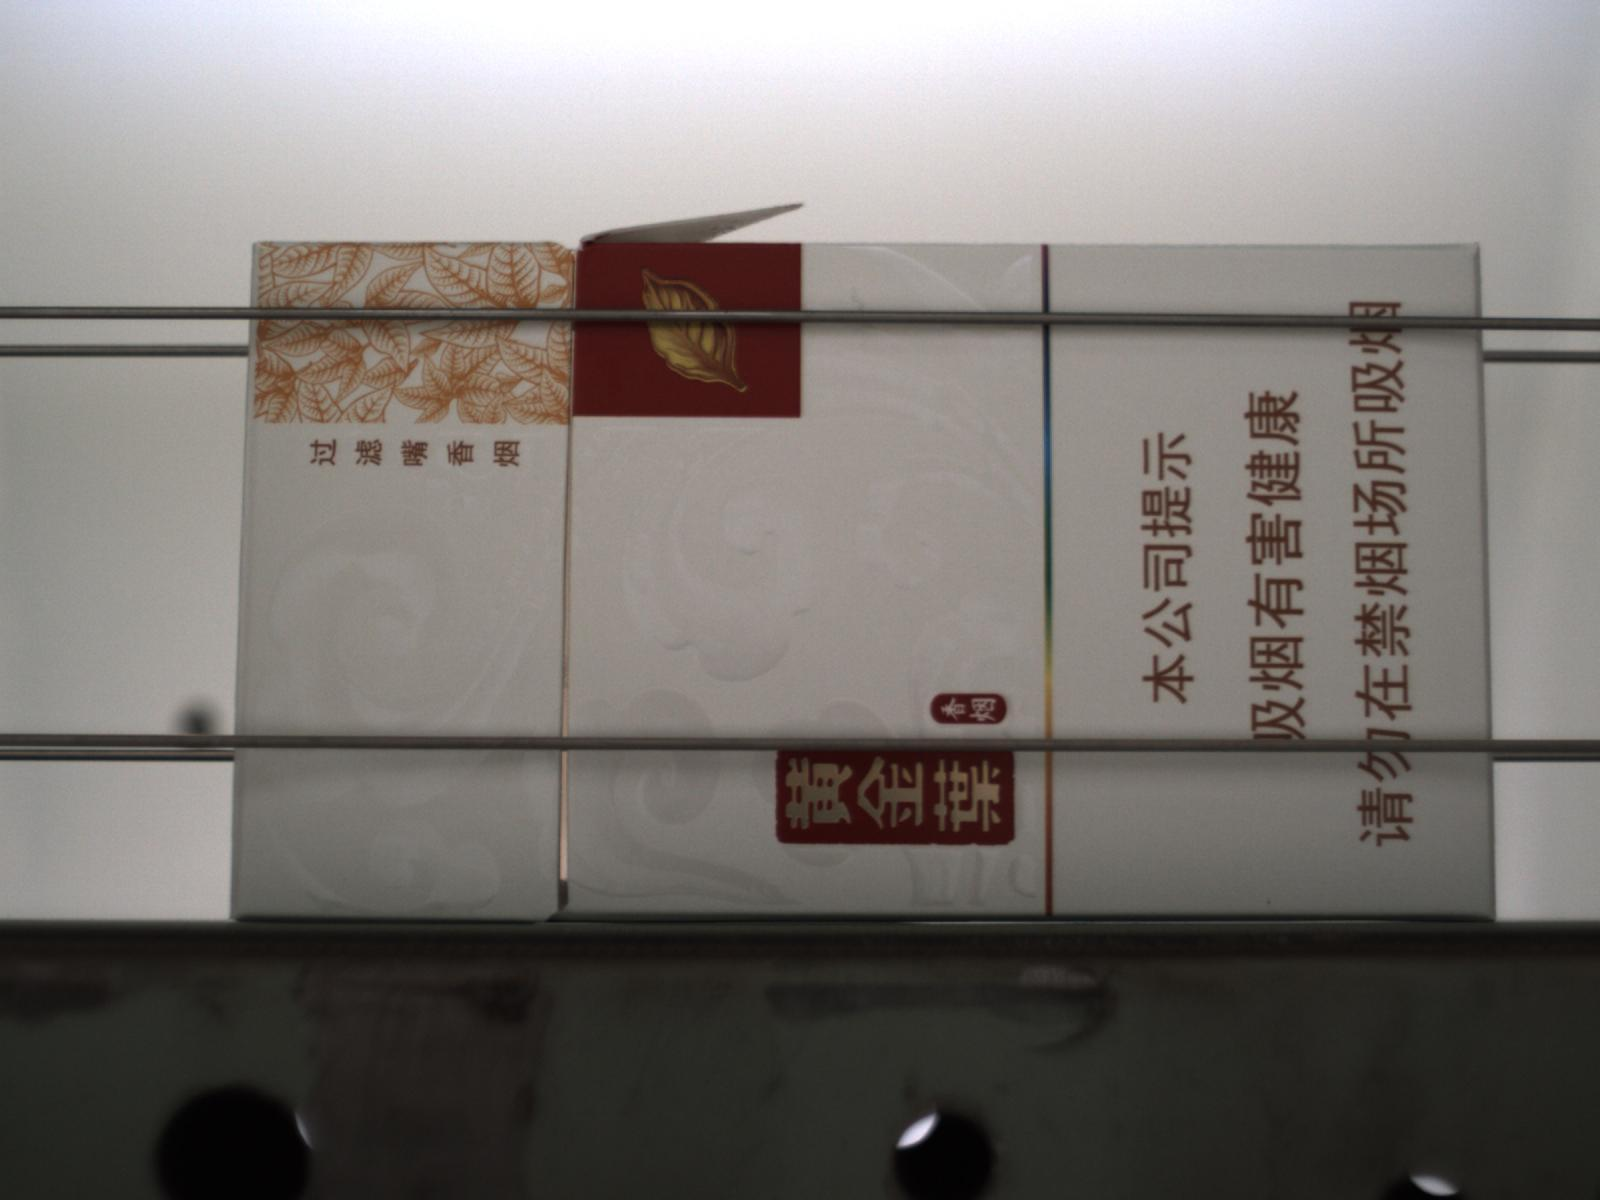dirtySpot: (1265, 899, 1272, 908)
outerFold_upper_01: (576, 200, 811, 248)
